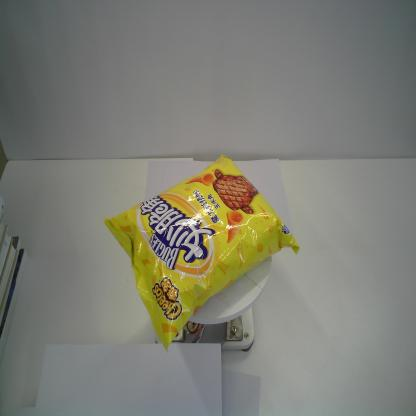Puffed Food: (102, 152, 300, 346)
